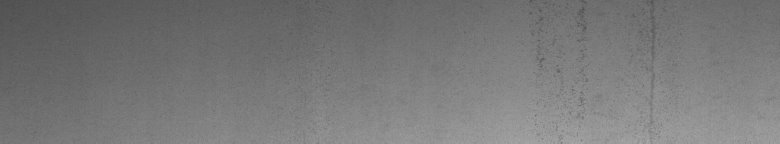ib: (532, 4, 658, 119)
